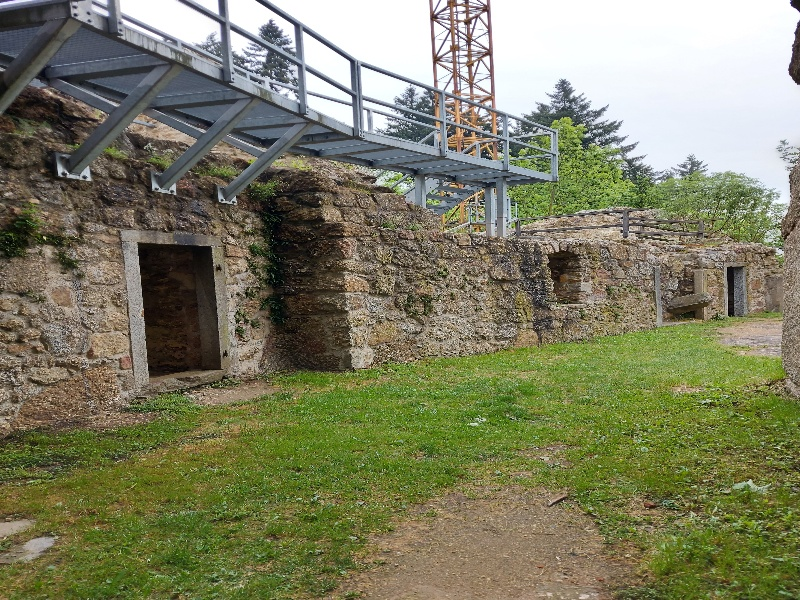door1: (109, 222, 239, 396)
door2: (703, 256, 753, 320)
